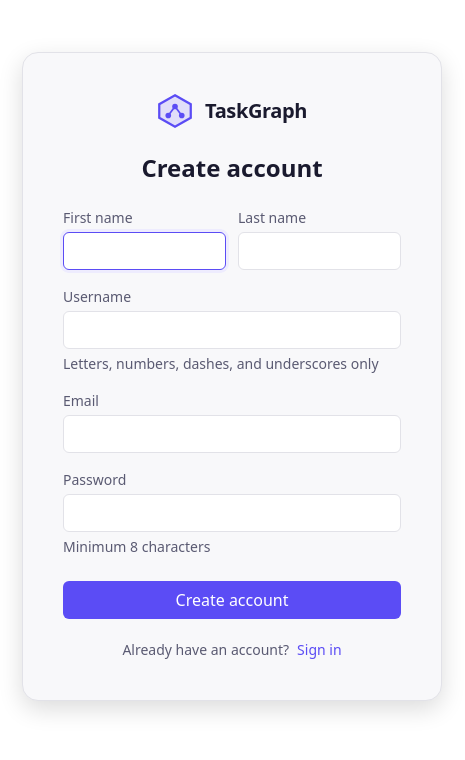
Test: RegisterView › shows error when username contains invalid characters
Step 1. Type "Alice" into the field labelled "First name" → (144, 250), box top-left (63, 232), bottom-right (226, 270)
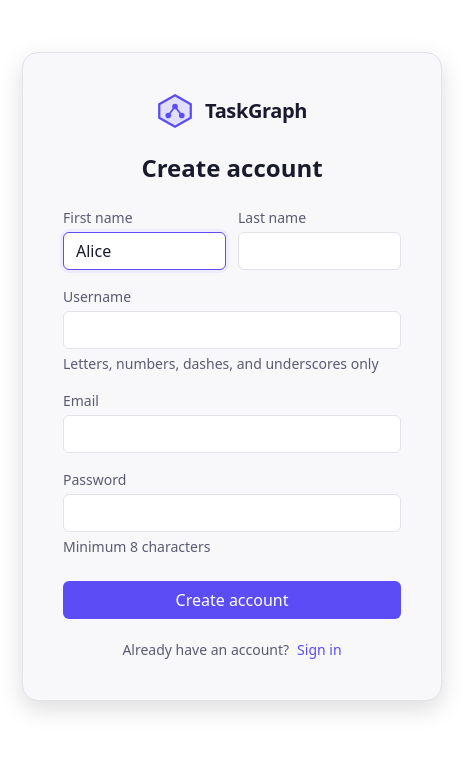
Step 2. Type "Smith" into the field labelled "Last name" → (320, 250), box top-left (238, 232), bottom-right (401, 270)
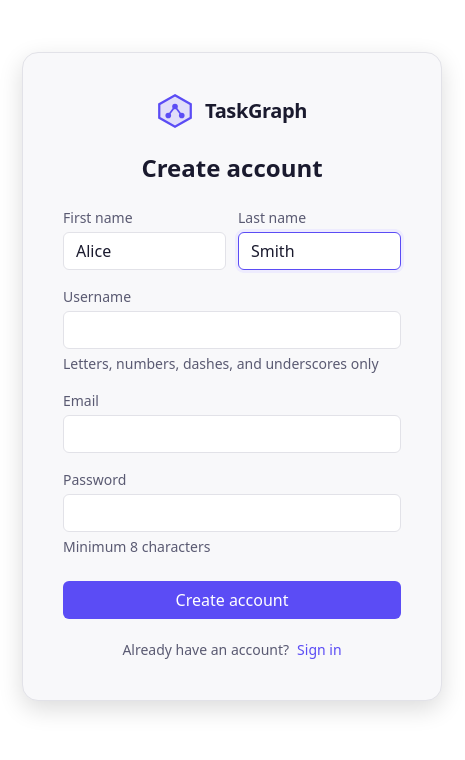
Step 3. Type "alice jones" into the field labelled "Username" → (232, 330), box top-left (63, 310), bottom-right (401, 348)
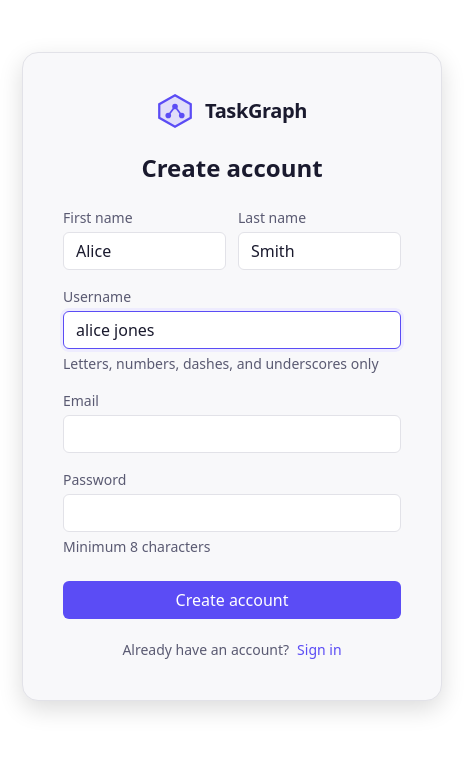
Step 4. Type "alice@example.com" into the field labelled "Email" → (232, 434), box top-left (63, 414), bottom-right (401, 452)
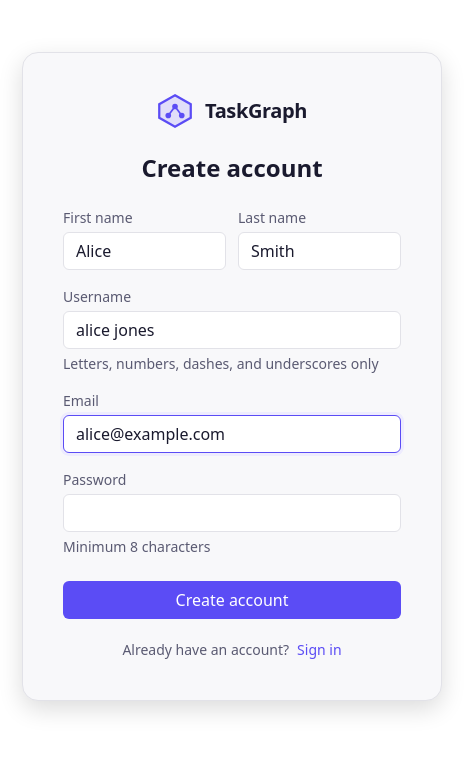
Step 5. Type "password123" into the password field labelled "Password" → (232, 512), box top-left (63, 494), bottom-right (401, 532)
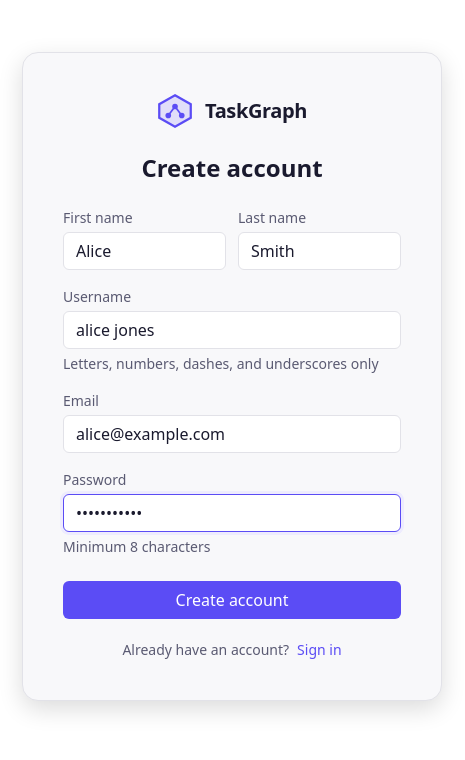
Step 6. Click the button "Create account" → (232, 600), box top-left (63, 580), bottom-right (401, 618)
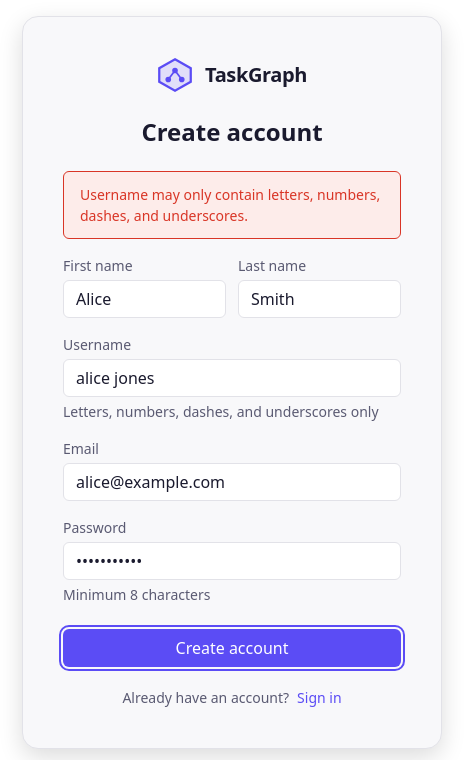
expect the message shows "Username may only contain": met, box top-left (80, 185), bottom-right (380, 225)
